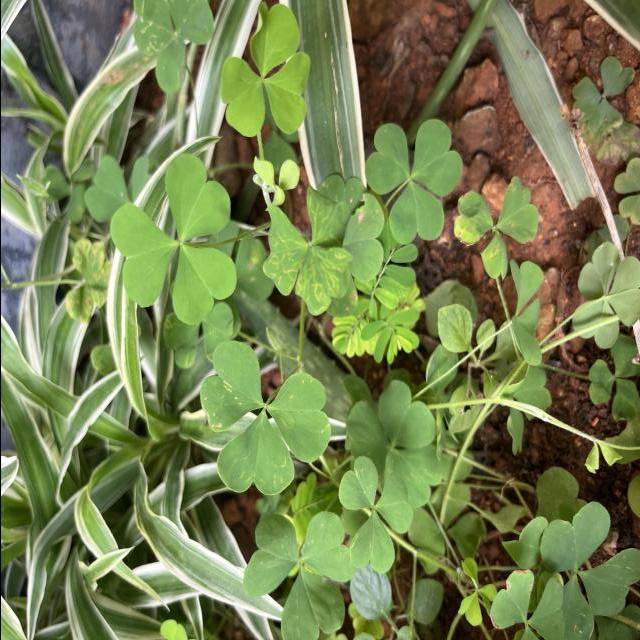Oxalis corniculata: (108, 151, 238, 327), (197, 338, 332, 498), (241, 510, 354, 640), (343, 380, 444, 510), (363, 117, 463, 246), (218, 0, 310, 138), (260, 184, 354, 317), (336, 454, 414, 576), (452, 174, 539, 282), (488, 568, 565, 640)
